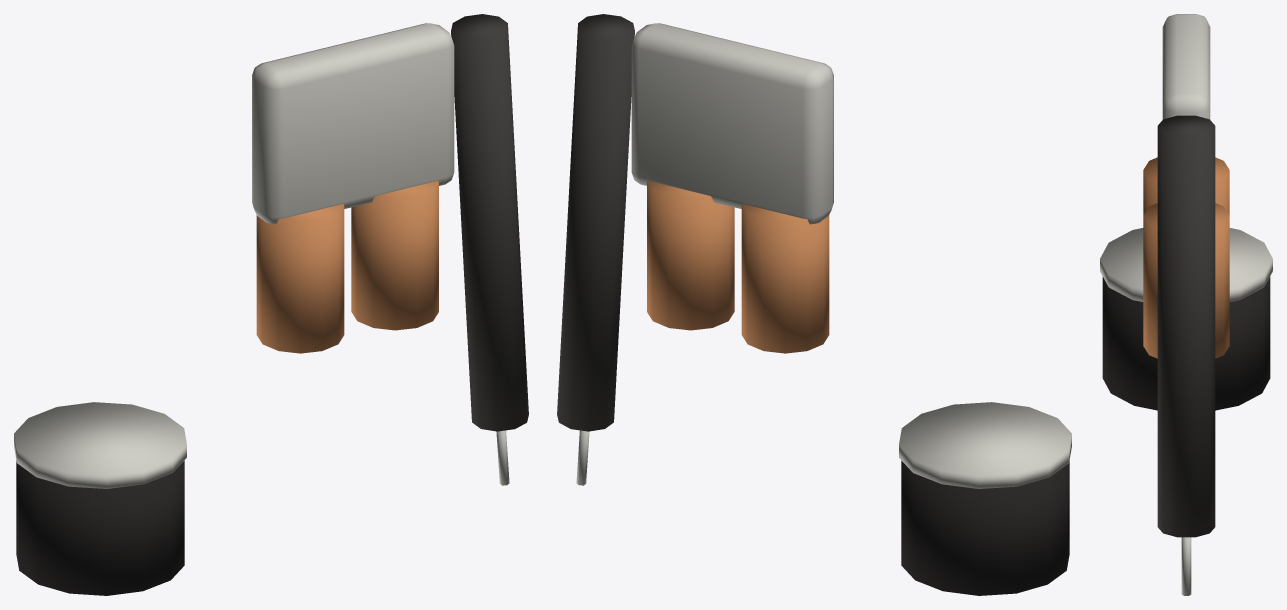
File: needles.glb
The picture shows the model from 3 angles, left to right: view 1: azimuth 30°, elevation 25°; view 2: azimuth 150°, elevation 25°; view 3: azimuth 270°, elevation 25°; orthographic projection.
Visible parts, largest first — view 1: frame, grip, pot, potlip, coil, coil.001; view 2: frame, grip, pot, potlip, coil, coil.001; view 3: grip, pot, potlip, frame, coil.001, coil, needle.
Boxes of the visible parts, <box> form: frame: <box>252,23,454,224</box>; grip: <box>451,14,528,431</box>; pot: <box>16,460,184,595</box>; potlip: <box>14,402,186,488</box>; coil: <box>256,204,344,353</box>; coil.001: <box>351,180,438,330</box>; frame: <box>631,23,833,224</box>; grip: <box>557,14,634,431</box>; pot: <box>901,460,1069,595</box>; potlip: <box>899,402,1071,488</box>; coil: <box>741,204,829,353</box>; coil.001: <box>647,180,734,330</box>; grip: <box>1157,115,1215,537</box>; pot: <box>1102,277,1270,410</box>; potlip: <box>1100,228,1272,301</box>; frame: <box>1162,14,1210,119</box>; coil.001: <box>1143,203,1229,358</box>; coil: <box>1143,157,1229,214</box>; needle: <box>1181,537,1191,595</box>.
Size of the model in its own units: 0.2365 by 0.2151 by 0.072.
